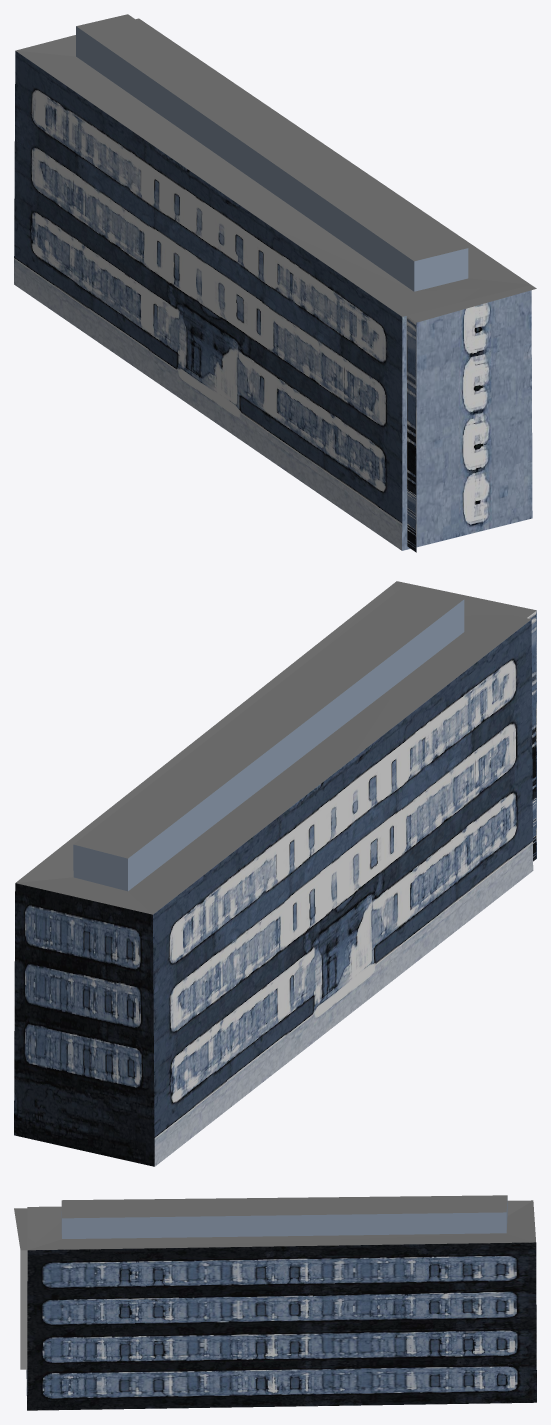
The model's file is Walther-Hempel-Bau.gltf.
3 views of the same model, one above another, from view 1: azimuth 30°, elevation 25°; view 2: azimuth 150°, elevation 25°; view 3: azimuth 270°, elevation 25° (orthographic). The views are drawn at different scales.
Visible parts, largest first — view 1: Dach.1; view 2: Dach.1; view 3: Dach.1.
Part boxes in pixels (bbox=[...]): Dach.1: bbox=[14, 14, 536, 552]; Dach.1: bbox=[14, 581, 536, 1166]; Dach.1: bbox=[14, 1195, 536, 1410].
Size of the model in its own units: 17.16 by 28.7 by 75.65.
Materials: 8 (5 with a texture image).
